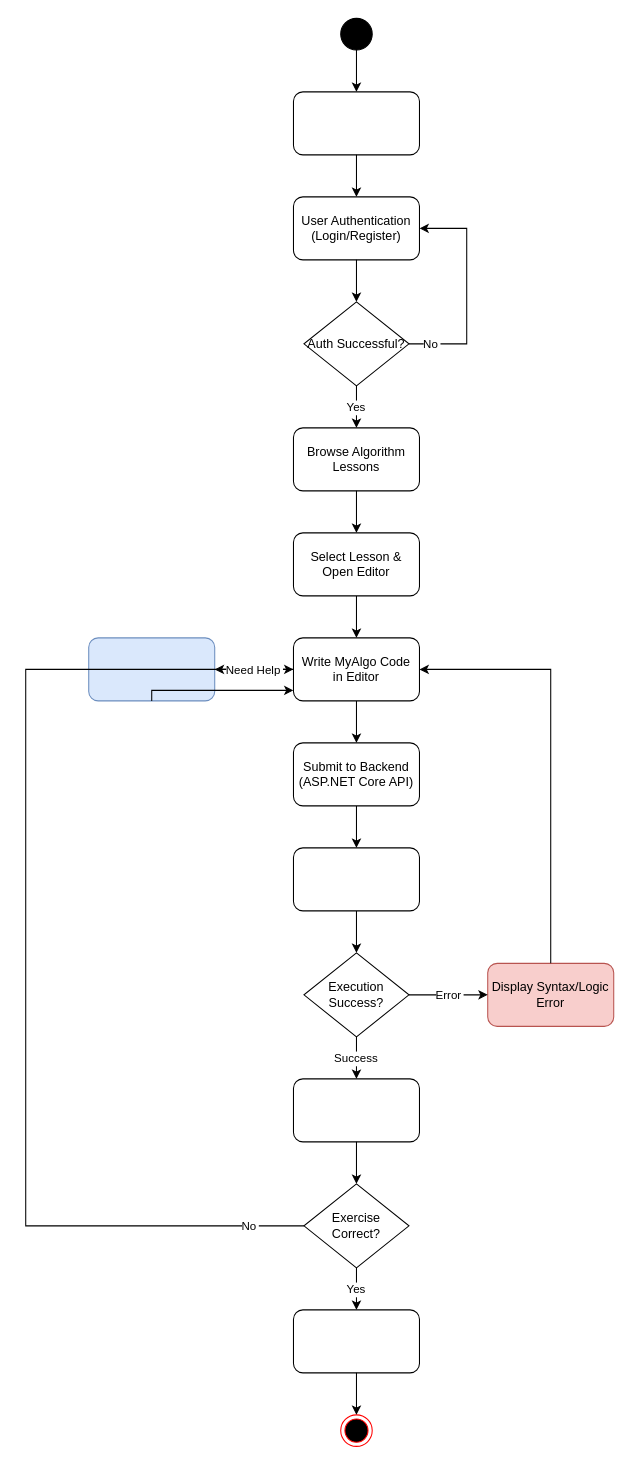
The diagram is 632 pixels wide and 1465 high, and some of its shapes have lost their labels. Here are the shapes that lost their labels. From the top down, the centre of each, then its label:
(x=355, y=123): Open AlgoNova Platform (React/Electron)
(x=151, y=669): Ask AI Assistant for Explanation
(x=355, y=879): Execute in MyAlgo C++ Engine
(x=355, y=1110): View Execution Results
(x=355, y=1341): Save Progress (PostgreSQL/Supabase)
